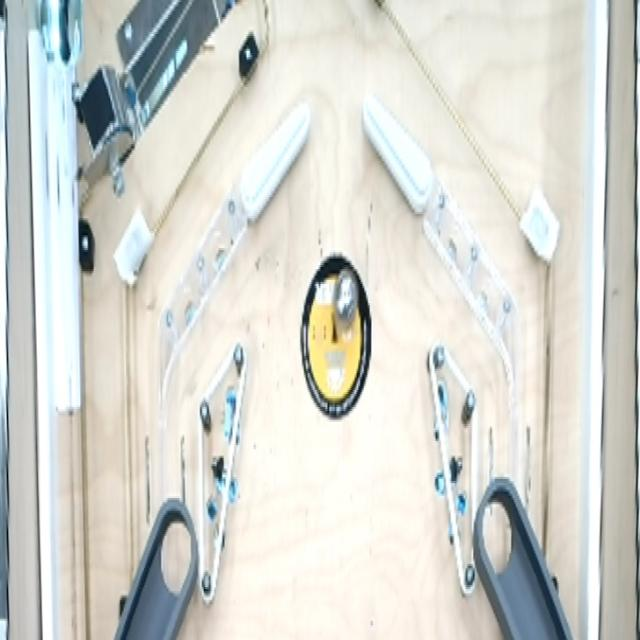ball: (330, 264, 362, 336)
flipper-left: (359, 84, 435, 220)
flipper-right: (237, 95, 312, 222)
